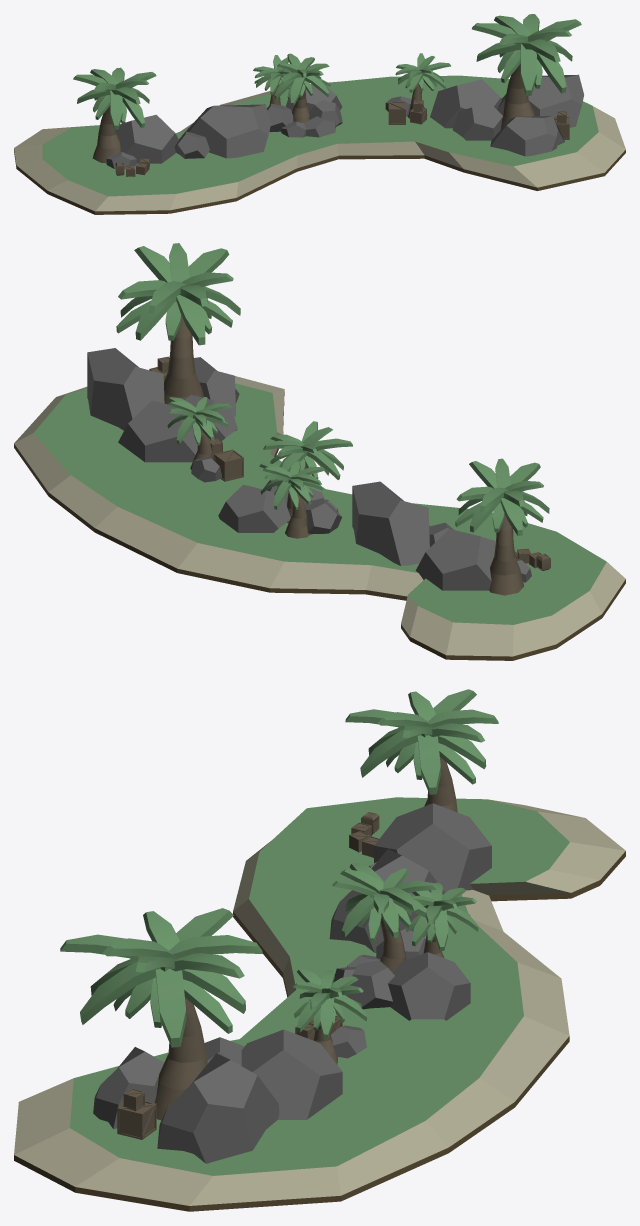
Rendered from Island4WithMaterialsWithAssets.fbx.
The picture shows the model from 3 angles, top to bottom: view 1: azimuth 30°, elevation 25°; view 2: azimuth 150°, elevation 25°; view 3: azimuth 270°, elevation 25°; orthographic projection. The views are drawn at different scales.
Parts seen in each view (by area): view 1: pPlatonic55; view 2: pPlatonic55; view 3: pPlatonic55.
Boxes of the visible parts, x1,y1,x2,y2 form: pPlatonic55: (14, 14, 625, 214); pPlatonic55: (14, 243, 625, 660); pPlatonic55: (14, 689, 625, 1211).
Bounding box in the file's own units: 5.7 × 1.37 × 3.66.
